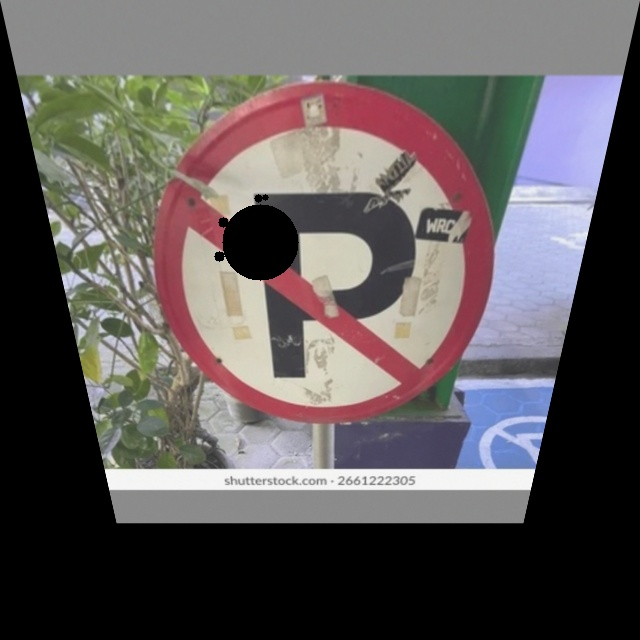No_Parking: (132, 82, 514, 414)
